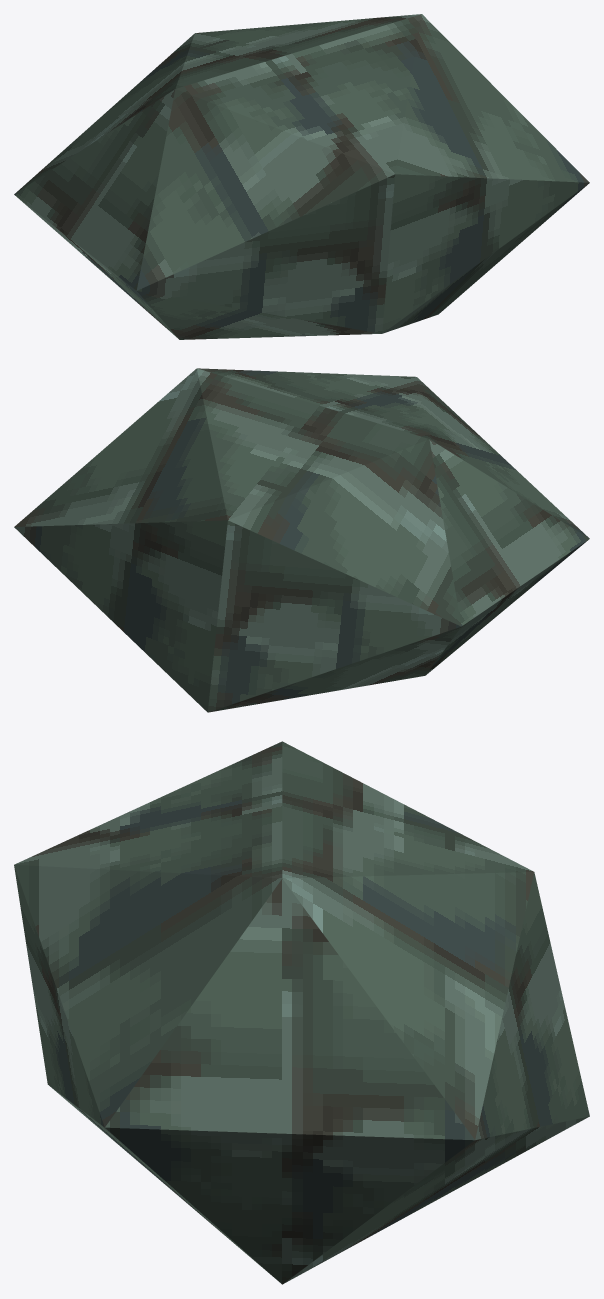
Rendered from boulder_s.glb.
3 renders of one model, top to bottom at view 1: azimuth 30°, elevation 25°; view 2: azimuth 150°, elevation 25°; view 3: azimuth 270°, elevation 25°, orthographic. The views are drawn at different scales.
Visible parts, largest first — view 1: boulder_s; view 2: boulder_s; view 3: boulder_s.
Boxes of the visible parts, x1,y1,x2,y2 form: boulder_s: [14, 14, 589, 339]; boulder_s: [14, 368, 589, 712]; boulder_s: [14, 741, 589, 1284].
Size of the model in its own units: 0.777 by 0.4804 by 0.6338.
1 material, 1 textured.
